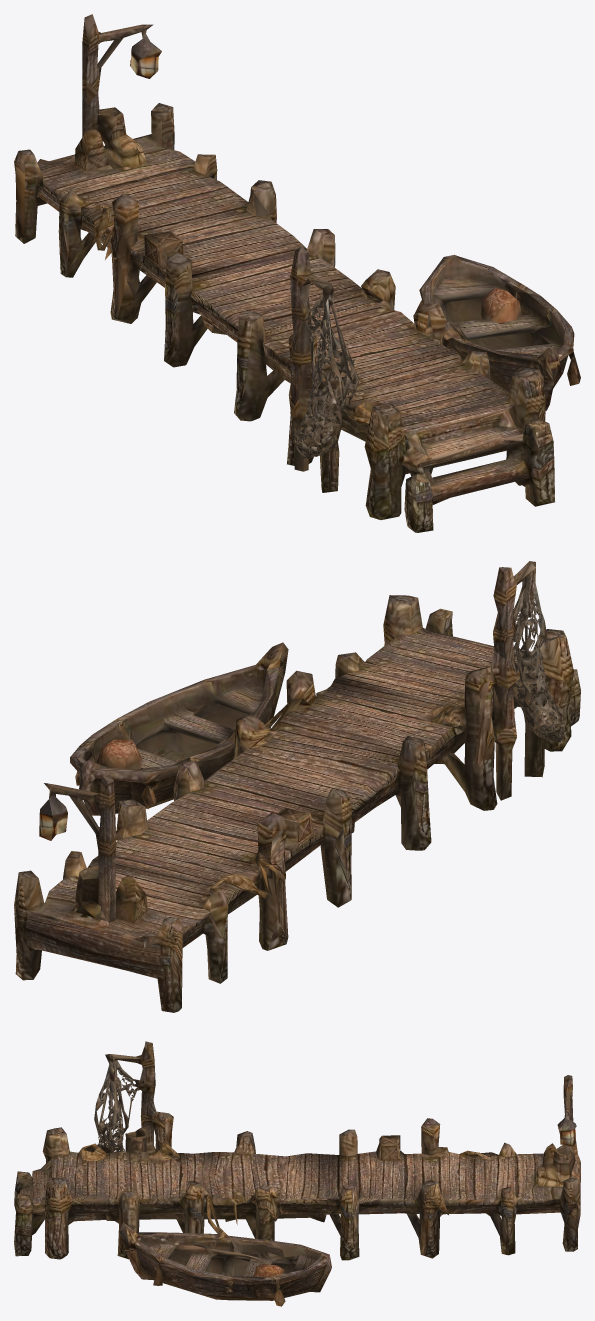
Rendered from pier.glb.
3 renders of one model, top to bottom at view 1: azimuth 30°, elevation 25°; view 2: azimuth 150°, elevation 25°; view 3: azimuth 270°, elevation 25°, orthographic. The views are drawn at different scales.
Visible parts, largest first — view 1: pier; view 2: pier; view 3: pier.
Boxes of the visible parts, x1,y1,x2,y2 form: pier: (14, 14, 580, 532); pier: (14, 561, 580, 1012); pier: (14, 1041, 580, 1306).
Size of the model in its own units: 4.06 by 2.48 by 8.
Materials: 1 (1 with a texture image).
